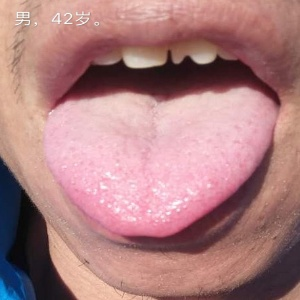st: (40, 101, 279, 240)
